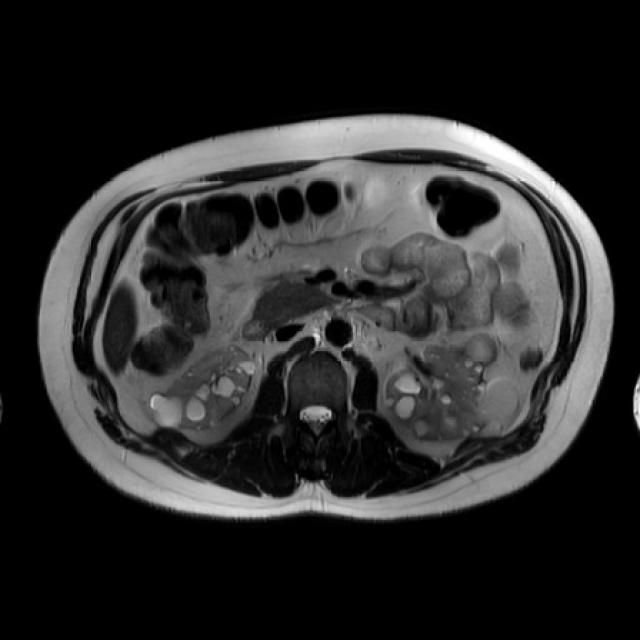sag: (148, 345, 253, 431)
sol: (387, 332, 520, 442)
